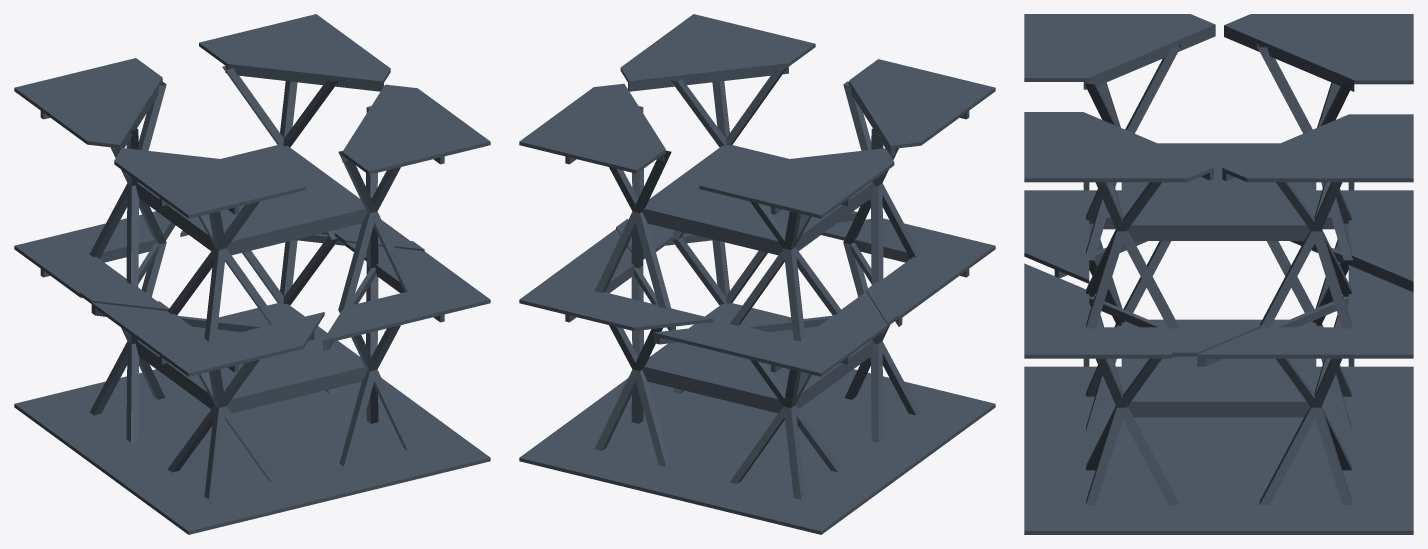
File: steel-frame.glb
3 views of the same model, side by side, from view 1: azimuth 30°, elevation 25°; view 2: azimuth 150°, elevation 25°; view 3: azimuth 270°, elevation 25° (orthographic). The views are drawn at different scales.
Visible parts, largest first — view 1: updated model Steel; view 2: updated model Steel; view 3: updated model Steel.
Part boxes in pixels (box(x1,y1,x2,y2)): updated model Steel: box(14, 14, 490, 534); updated model Steel: box(519, 14, 995, 534); updated model Steel: box(1024, 14, 1413, 534).
Size of the model in its own units: 9.89 by 10 by 9.89.
